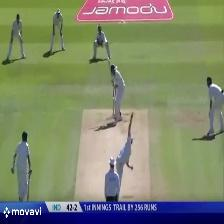batsman: (103, 56, 128, 122)
